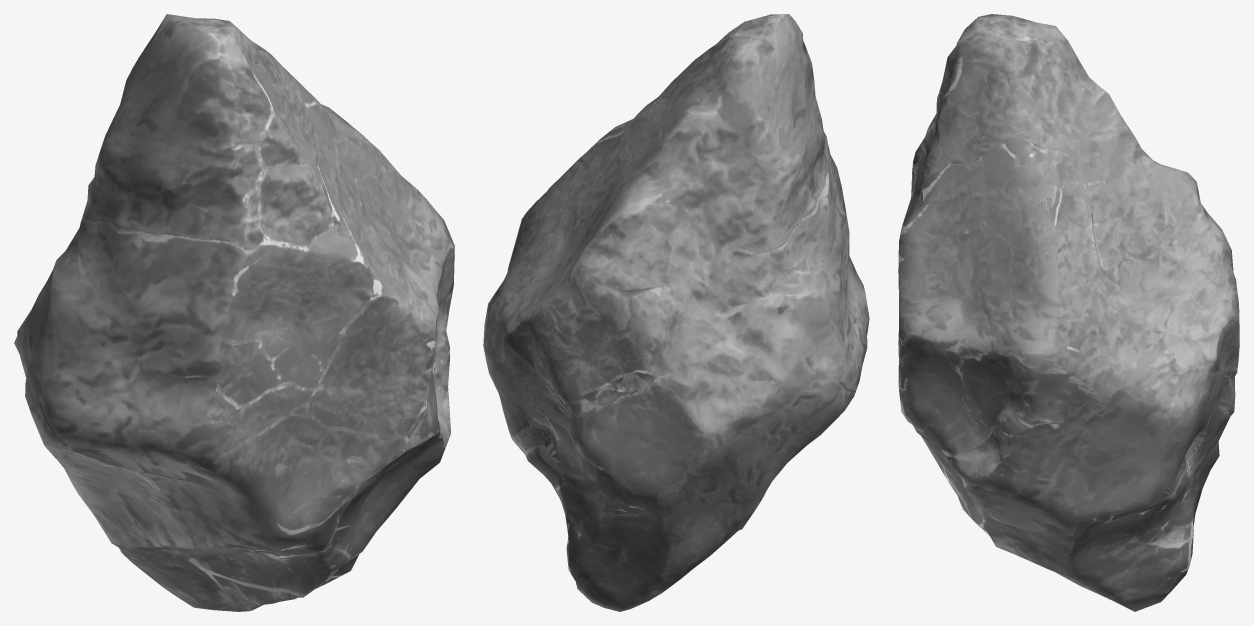
The model's file is rock_07.glb.
3 views of the same model, side by side, from view 1: azimuth 30°, elevation 25°; view 2: azimuth 150°, elevation 25°; view 3: azimuth 270°, elevation 25° (orthographic). The views are drawn at different scales.
Visible parts, largest first — view 1: rock_07; view 2: rock_07; view 3: rock_07.
Part boxes in pixels (left/top/right/bottom): rock_07: left=14, top=14, right=454, bottom=611; rock_07: left=483, top=14, right=869, bottom=611; rock_07: left=898, top=14, right=1239, bottom=611.
Bounding box in the file's own units: 1.17 × 1.87 × 1.07.
Materials: 1 (1 with a texture image).
